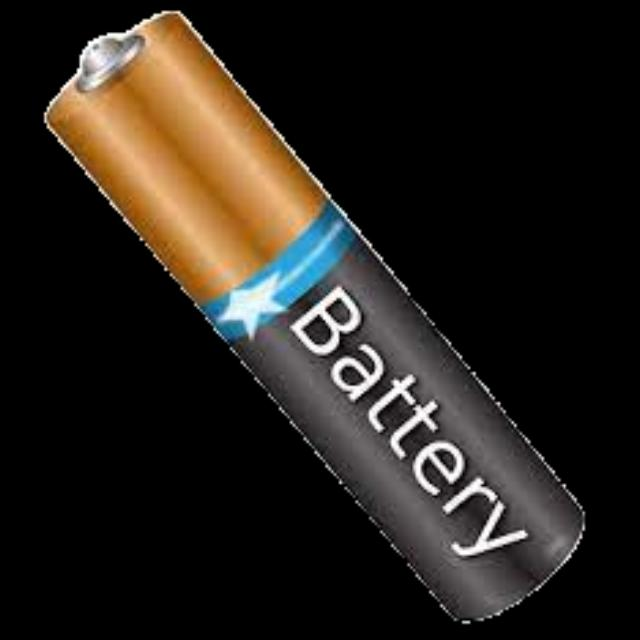Battery: (47, 14, 586, 624)
